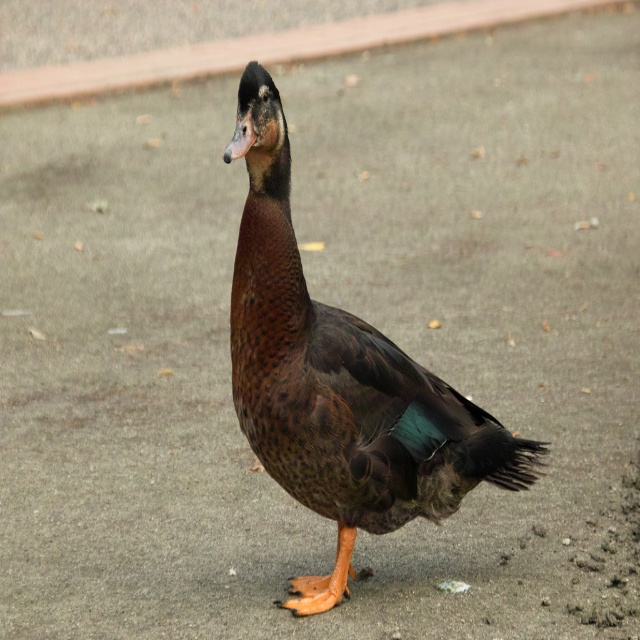Duck: (214, 67, 547, 606)
